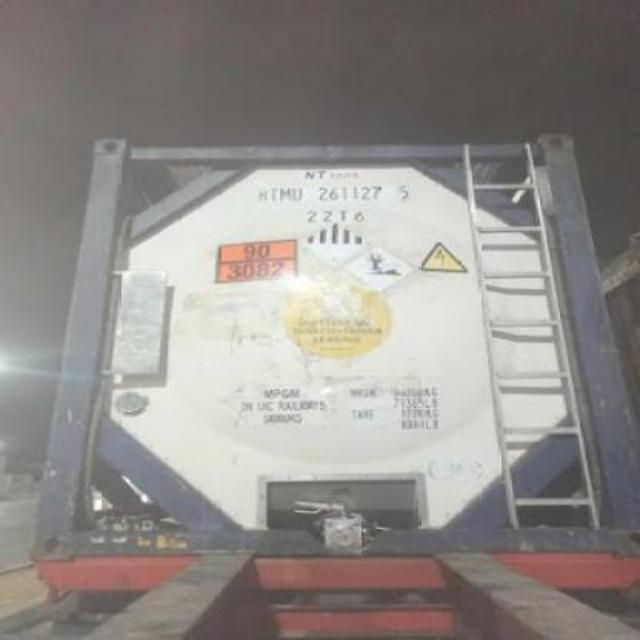1: (352, 186, 360, 198), (342, 186, 348, 200)
2: (316, 186, 328, 202), (360, 186, 372, 200)
5: (398, 183, 410, 199)
6: (330, 186, 340, 202)
7: (372, 184, 382, 200)
M: (280, 188, 290, 200)
R: (258, 188, 270, 202)
T: (272, 186, 278, 200)
U: (294, 186, 304, 202)
